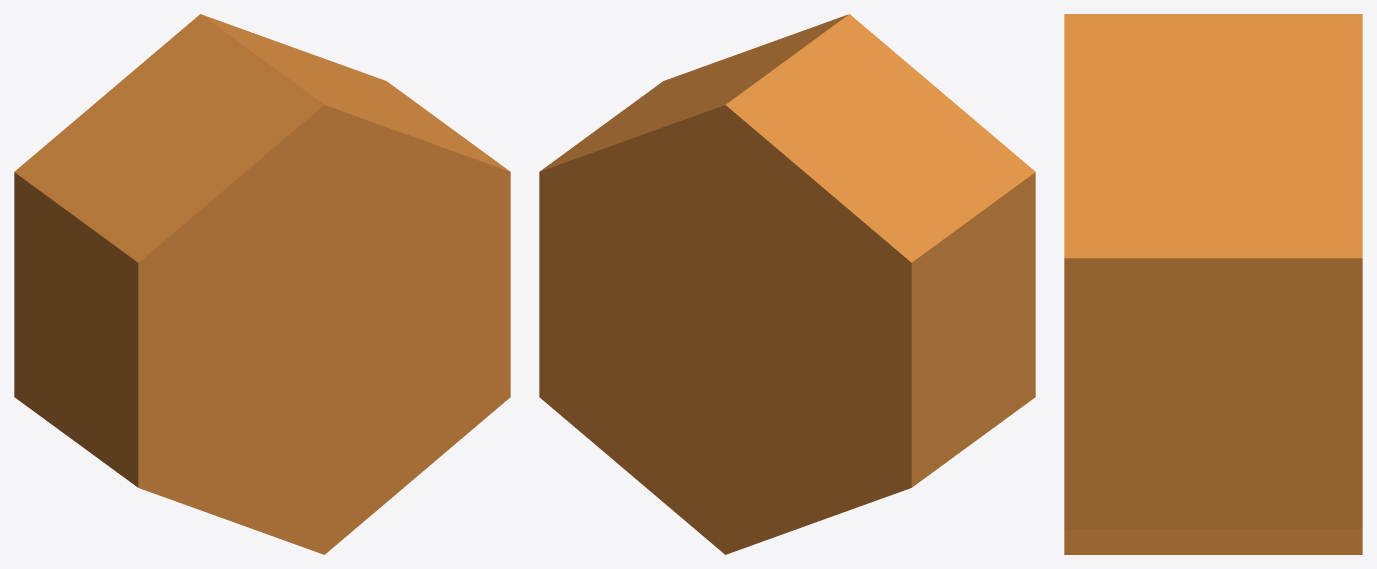
File: RoverBody.obj
3 renders of one model, left to right at view 1: azimuth 30°, elevation 25°; view 2: azimuth 150°, elevation 25°; view 3: azimuth 270°, elevation 25°, orthographic. The views are drawn at different scales.
Visible parts, largest first — view 1: Cylinder1; view 2: Cylinder1; view 3: Cylinder1.
Boxes of the visible parts, left/top/right/bottom form: Cylinder1: left=14, top=14, right=510, bottom=554; Cylinder1: left=539, top=14, right=1035, bottom=554; Cylinder1: left=1064, top=14, right=1362, bottom=554.
Bounding box in the file's own units: 0.866 × 1 × 0.5.
